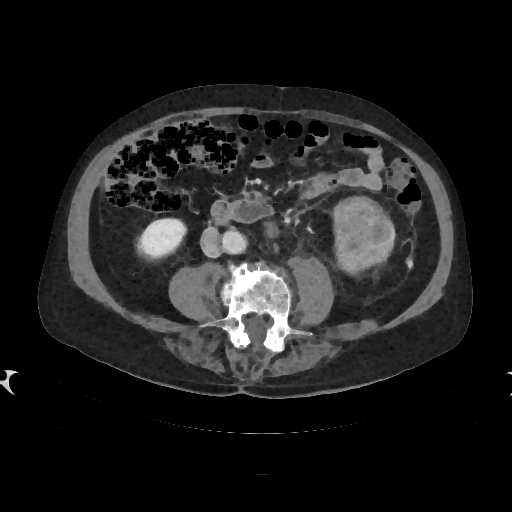Lesion: (332, 190, 397, 277)
